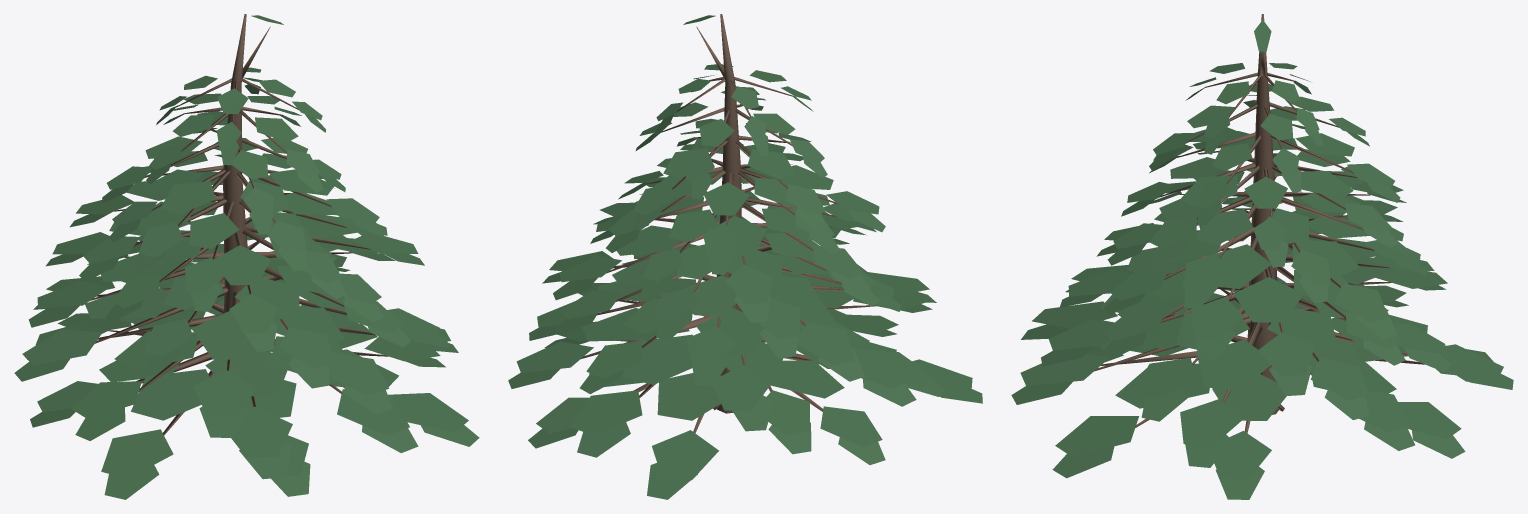
File: hemlock-young-lod1.glb
3 renders of one model, left to right at view 1: azimuth 30°, elevation 25°; view 2: azimuth 150°, elevation 25°; view 3: azimuth 270°, elevation 25°, orthographic. The views are drawn at different scales.
Visible parts, largest first — view 1: tree_hemlock-young_LOD1; view 2: tree_hemlock-young_LOD1; view 3: tree_hemlock-young_LOD1.
Part boxes in pixels (x1=…): tree_hemlock-young_LOD1: x1=14, y1=14, x2=479, y2=499; tree_hemlock-young_LOD1: x1=508, y1=14, x2=982, y2=499; tree_hemlock-young_LOD1: x1=1011, y1=14, x2=1513, y2=499.
Bounding box in the file's own units: 7.92 × 7.51 × 8.54.
